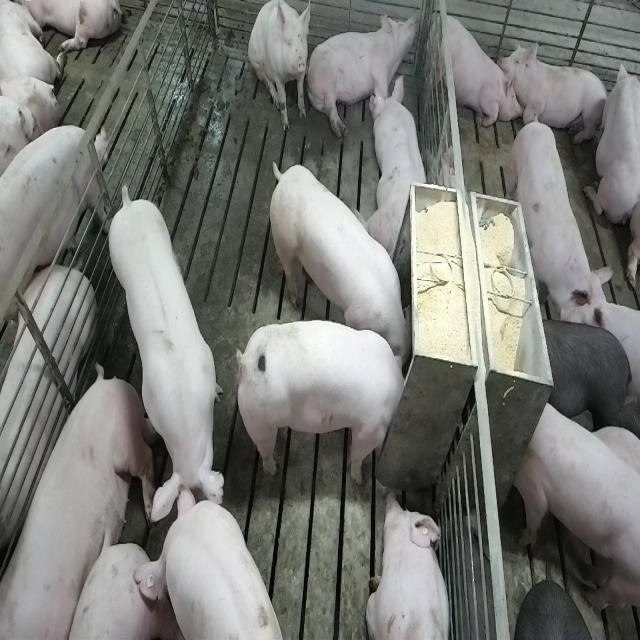Feeding: (263, 159, 412, 369), (231, 318, 408, 484)
Lateral_lying: (4, 367, 158, 640), (307, 12, 420, 142)
Sitting: (422, 7, 515, 140), (248, 2, 311, 134)
Standing: (106, 188, 224, 537), (0, 265, 93, 573), (515, 395, 638, 619), (0, 117, 108, 348), (511, 106, 612, 324), (152, 492, 285, 640), (541, 316, 637, 442)
Sternal_lying: (366, 489, 453, 640), (366, 73, 431, 259), (506, 40, 609, 148), (584, 56, 638, 226)
